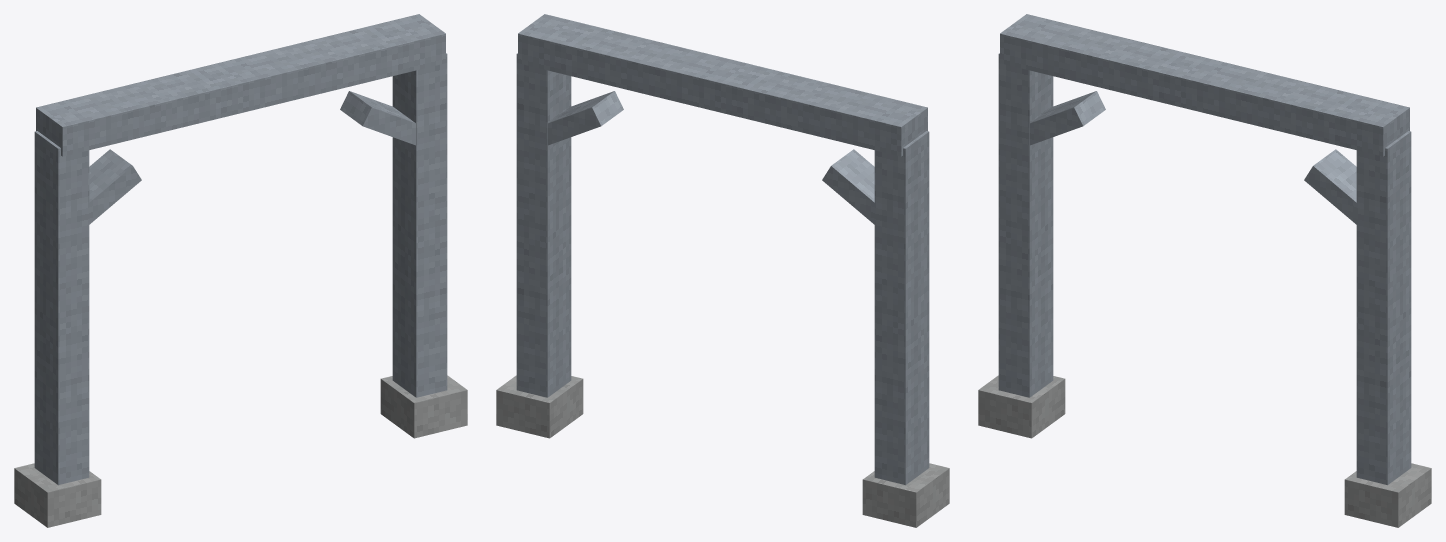
File: level_blockout_bunker_support_arch.glb
3 views of the same model, side by side, from view 1: azimuth 30°, elevation 25°; view 2: azimuth 150°, elevation 25°; view 3: azimuth 330°, elevation 25° (orthographic).
Parts seen in each view (by area): view 1: level_blockout_bunker_support_arch; view 2: level_blockout_bunker_support_arch; view 3: level_blockout_bunker_support_arch.
Boxes of the visible parts, x1,y1,x2,y2 form: level_blockout_bunker_support_arch: (14, 14, 467, 527); level_blockout_bunker_support_arch: (496, 14, 949, 527); level_blockout_bunker_support_arch: (978, 14, 1431, 527).
Size of the model in its own units: 2.98 by 2.67 by 0.41.
Materials: 2 (2 with a texture image).
